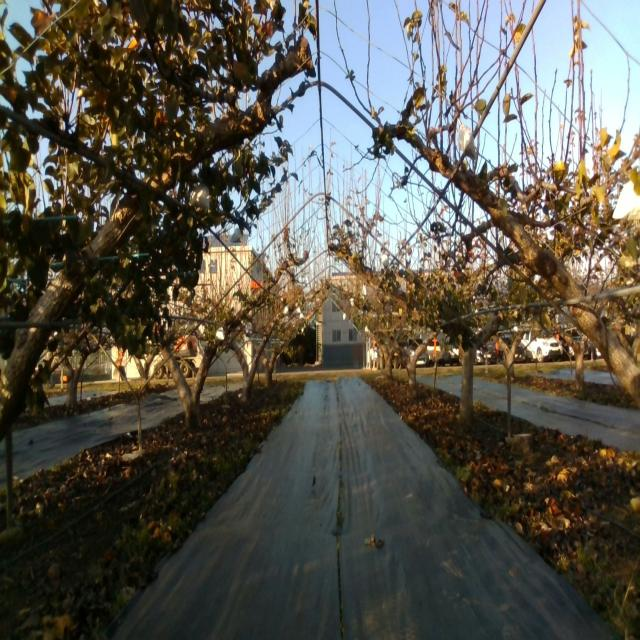pearbags: (612, 180, 640, 222), (188, 176, 211, 209), (458, 124, 477, 160)
